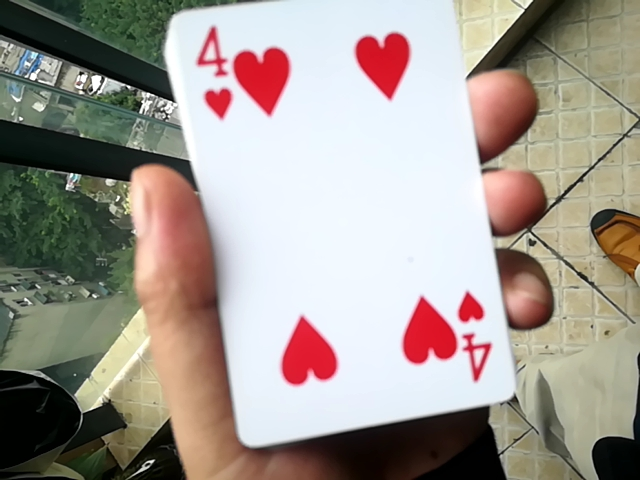hx 4: (145, 5, 503, 460)
